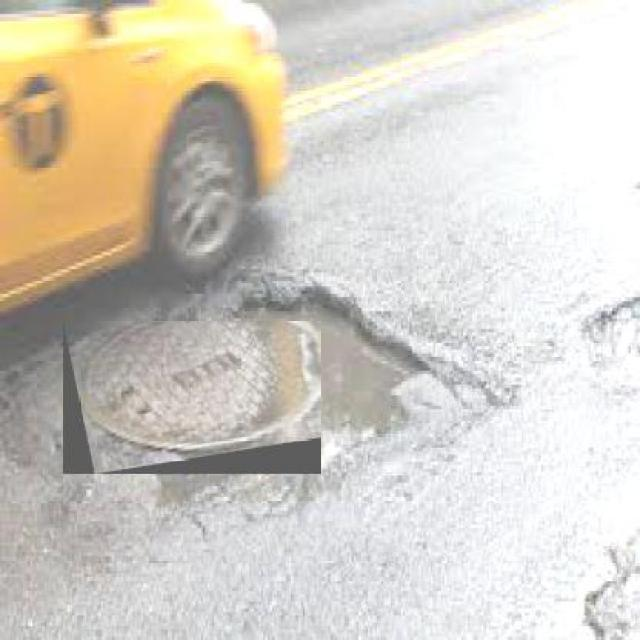Manhole: (63, 320, 320, 474)
Pothole: (319, 271, 460, 469), (575, 534, 640, 639), (563, 273, 640, 353), (220, 282, 354, 322)
